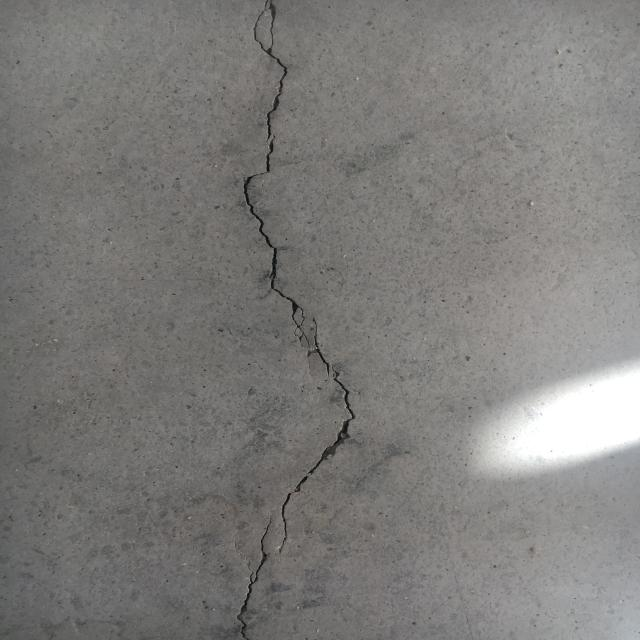Rachadura: (230, 0, 363, 640)
